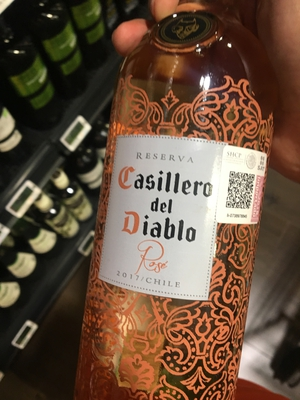casillero del diablo rose: (77, 20, 273, 400)
